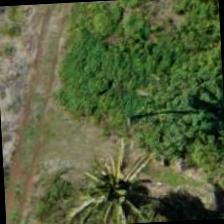Kelapa_Sawit: (64, 134, 159, 223)
